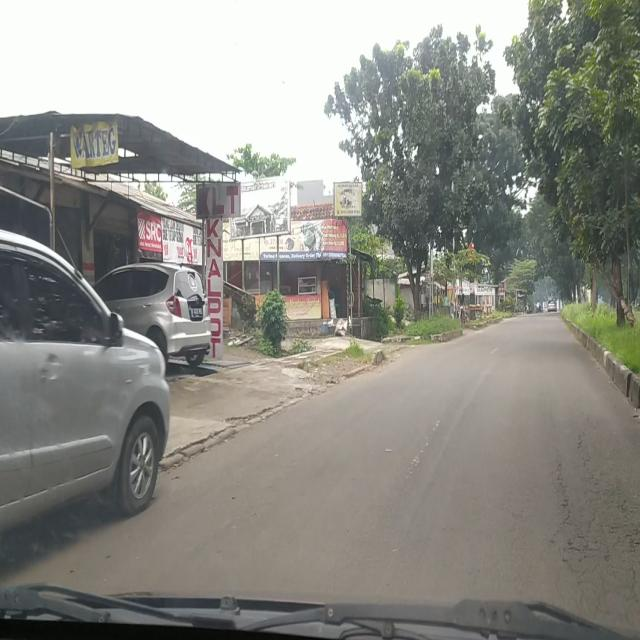Drain Hole: (554, 427, 640, 638)
